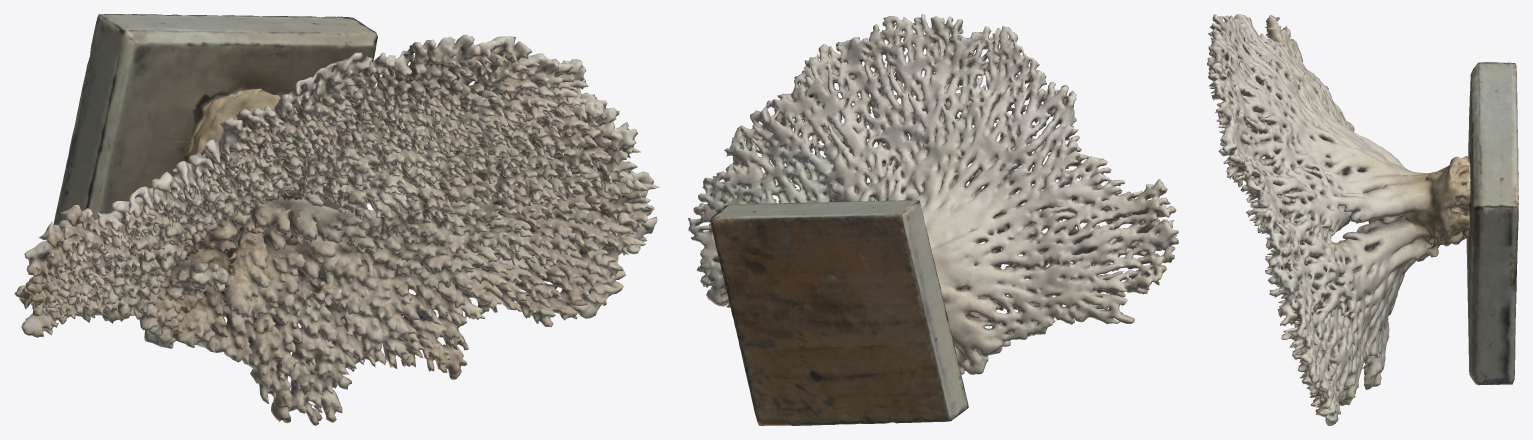
File: usnm_229-150k-2048-medium.glb
3 views of the same model, side by side, from view 1: azimuth 30°, elevation 25°; view 2: azimuth 150°, elevation 25°; view 3: azimuth 270°, elevation 25° (orthographic). The views are drawn at different scales.
Size of the model in its own units: 618 by 424 by 344.
Materials: 1 (1 with a texture image).
